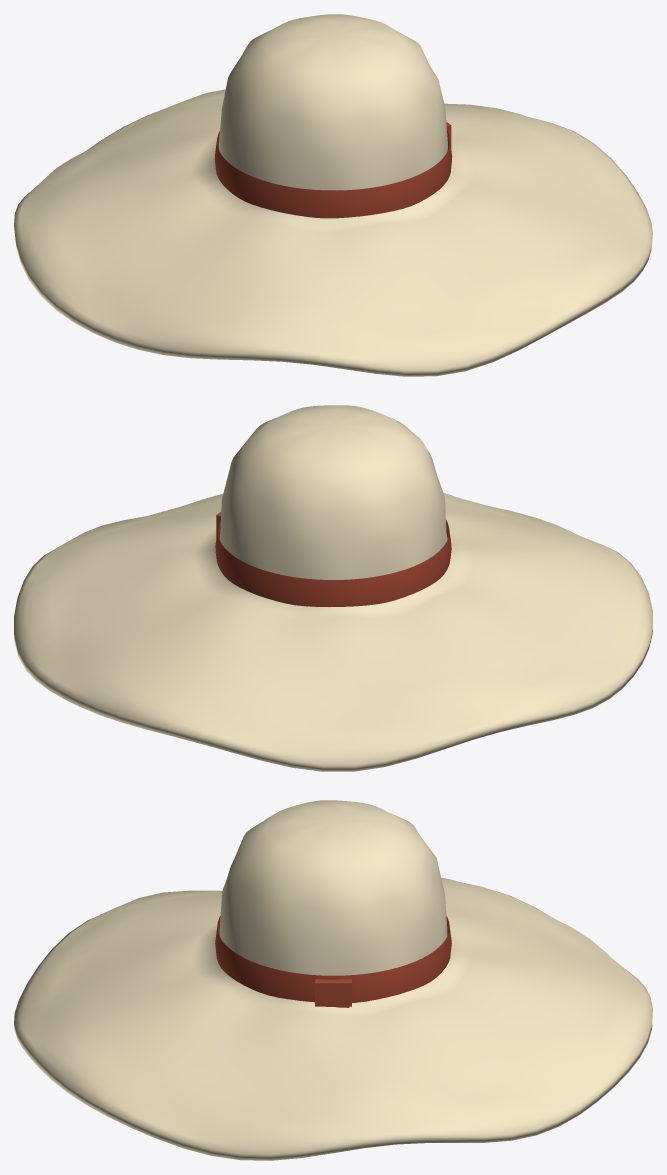
File: hat_straw.glb
3 renders of one model, top to bottom at view 1: azimuth 30°, elevation 25°; view 2: azimuth 150°, elevation 25°; view 3: azimuth 270°, elevation 25°, orthographic.
Parts seen in each view (by area): view 1: HatStraw; view 2: HatStraw; view 3: HatStraw.
Part boxes in pixels (x1=…): HatStraw: x1=14, y1=14, x2=652, y2=376; HatStraw: x1=14, y1=405, x2=652, y2=771; HatStraw: x1=14, y1=800, x2=652, y2=1160.
Size of the model in its own units: 0.8691 by 0.3191 by 0.8691.
